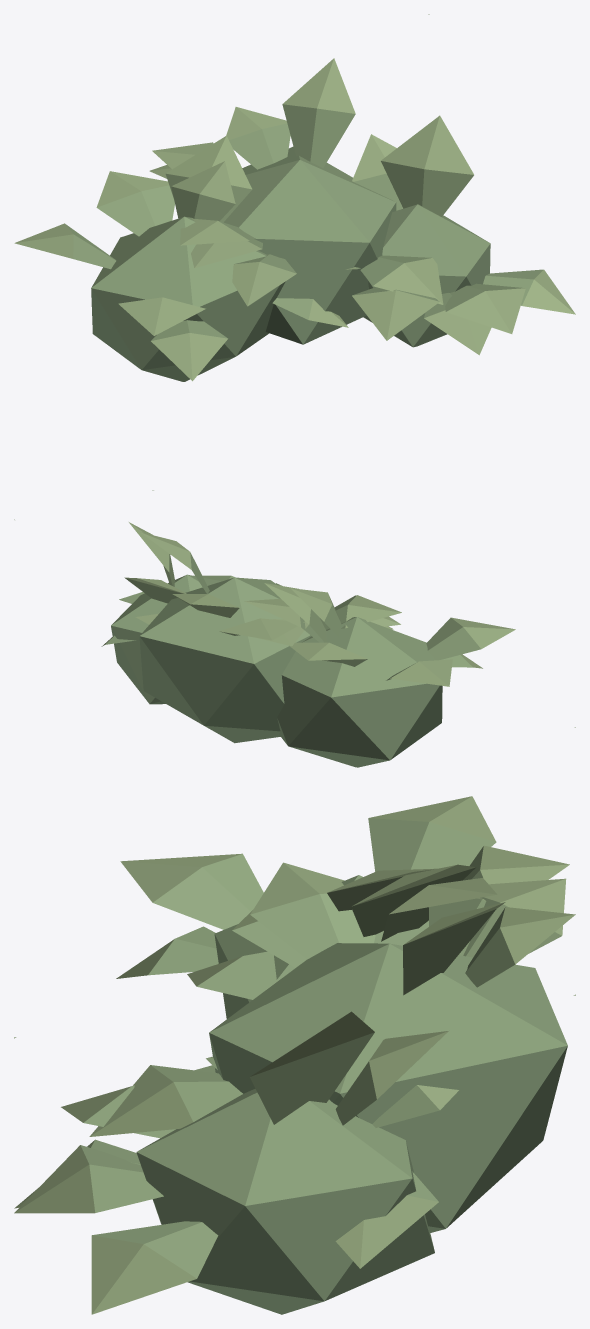
File: Bush2_lite_leaf.glb
3 views of the same model, one above another, from view 1: azimuth 30°, elevation 25°; view 2: azimuth 150°, elevation 25°; view 3: azimuth 270°, elevation 25° (orthographic). The views are drawn at different scales.
Parts seen in each view (by area): view 1: Bush2_lite_leaf; view 2: Bush2_lite_leaf; view 3: Bush2_lite_leaf.
Boxes of the visible parts, <box> form: Bush2_lite_leaf: <box>14,14,575,490</box>; Bush2_lite_leaf: <box>14,519,575,767</box>; Bush2_lite_leaf: <box>14,796,575,1314</box>.
Bounding box in the file's own units: 5.53 × 2.88 × 3.65.
